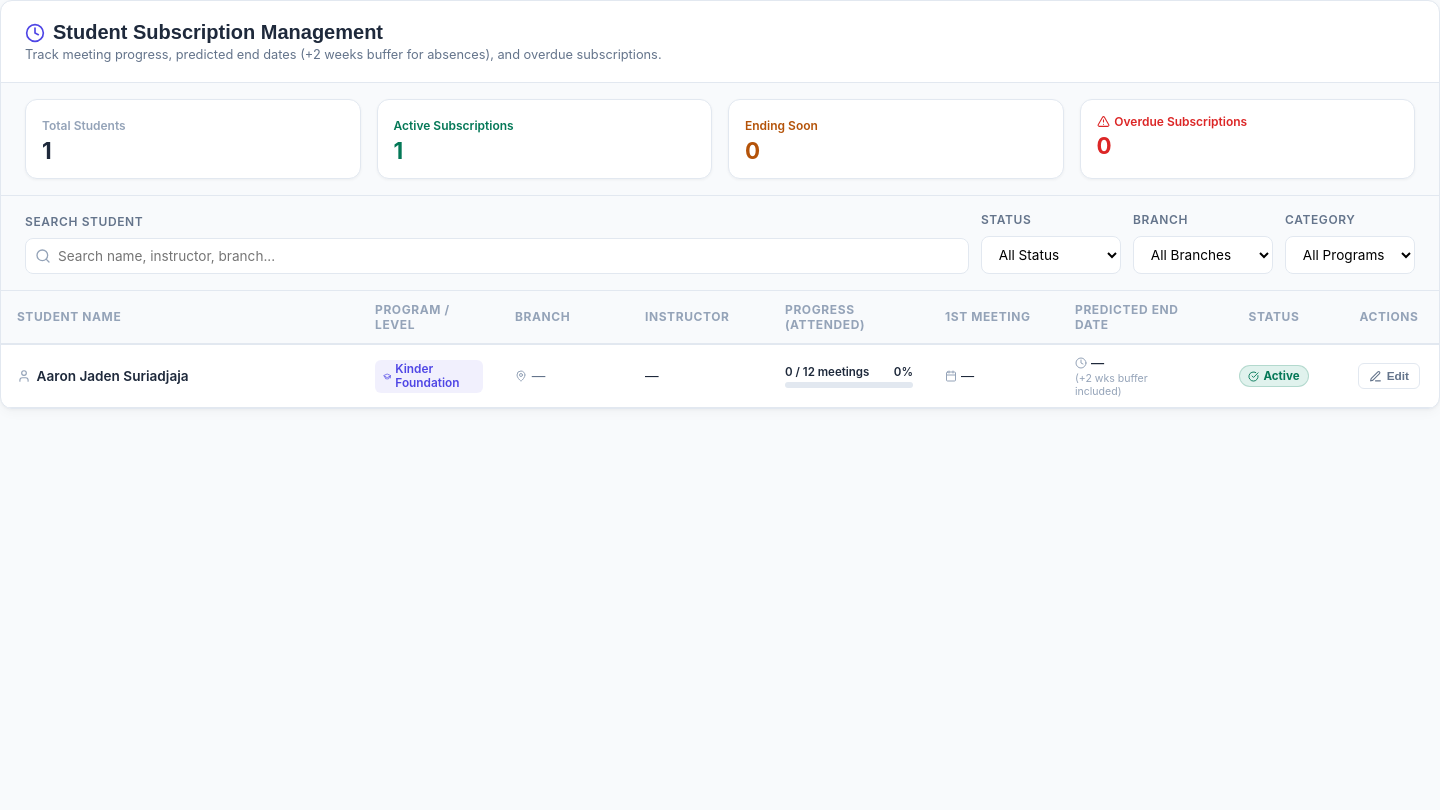
NewStudentSubscriptionsPage — Academic Term Coverage › stages top-up and calculates continuation terms beyond current package
Check: the text "Aaron Jaden Suriadjaja" is shown, box [17,368,189,384]
Click the button titled "Edit Subscription Start Date & Package" at {"x": 1389, "y": 376}, box [1358,363,1420,389]
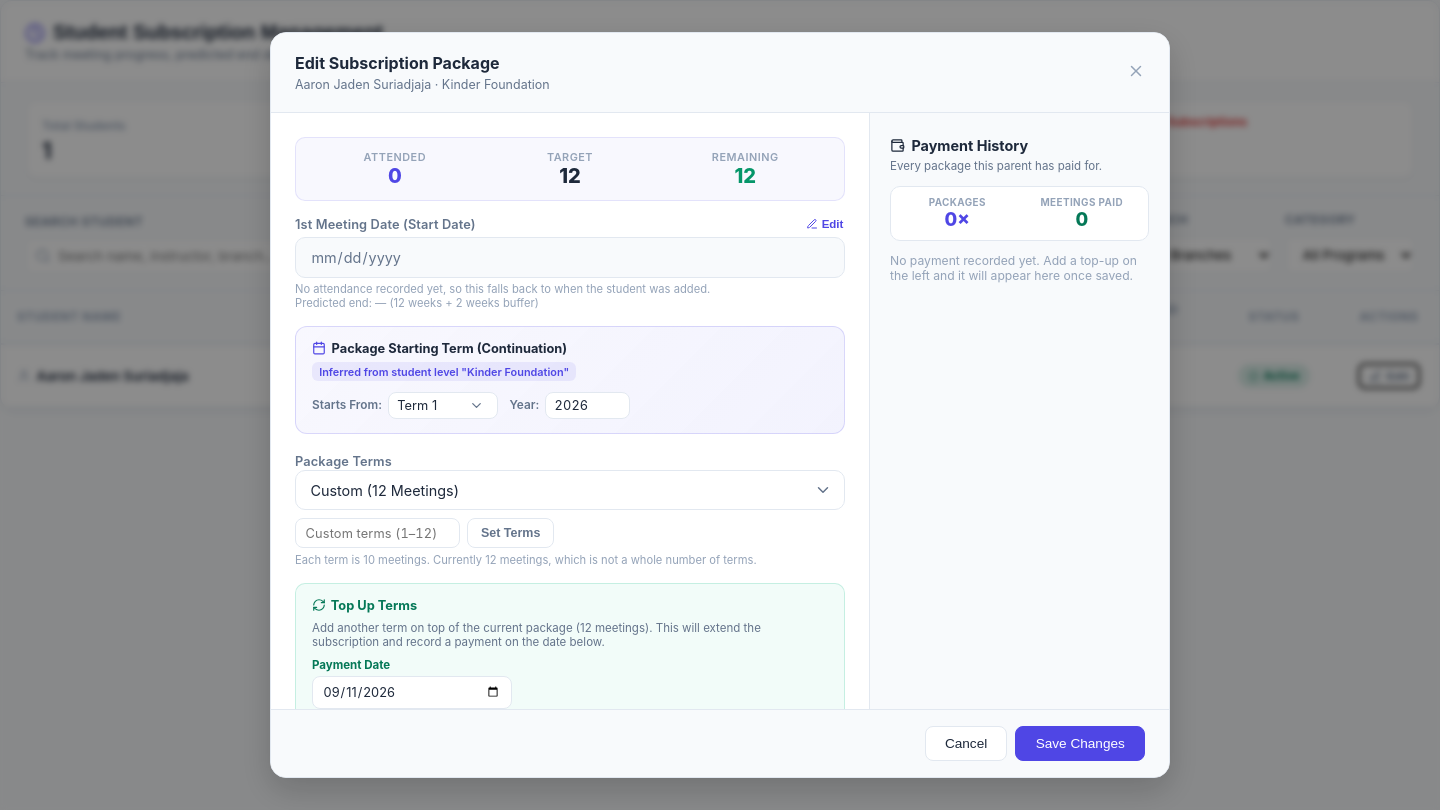
Check: the heading "Edit Subscription Package" is shown, box [295,53,500,73]
# Set starting term to 3
Select "Term 3" in the dropdown labelled "Starts From:" at {"x": 442, "y": 405}, box [388,392,498,419]
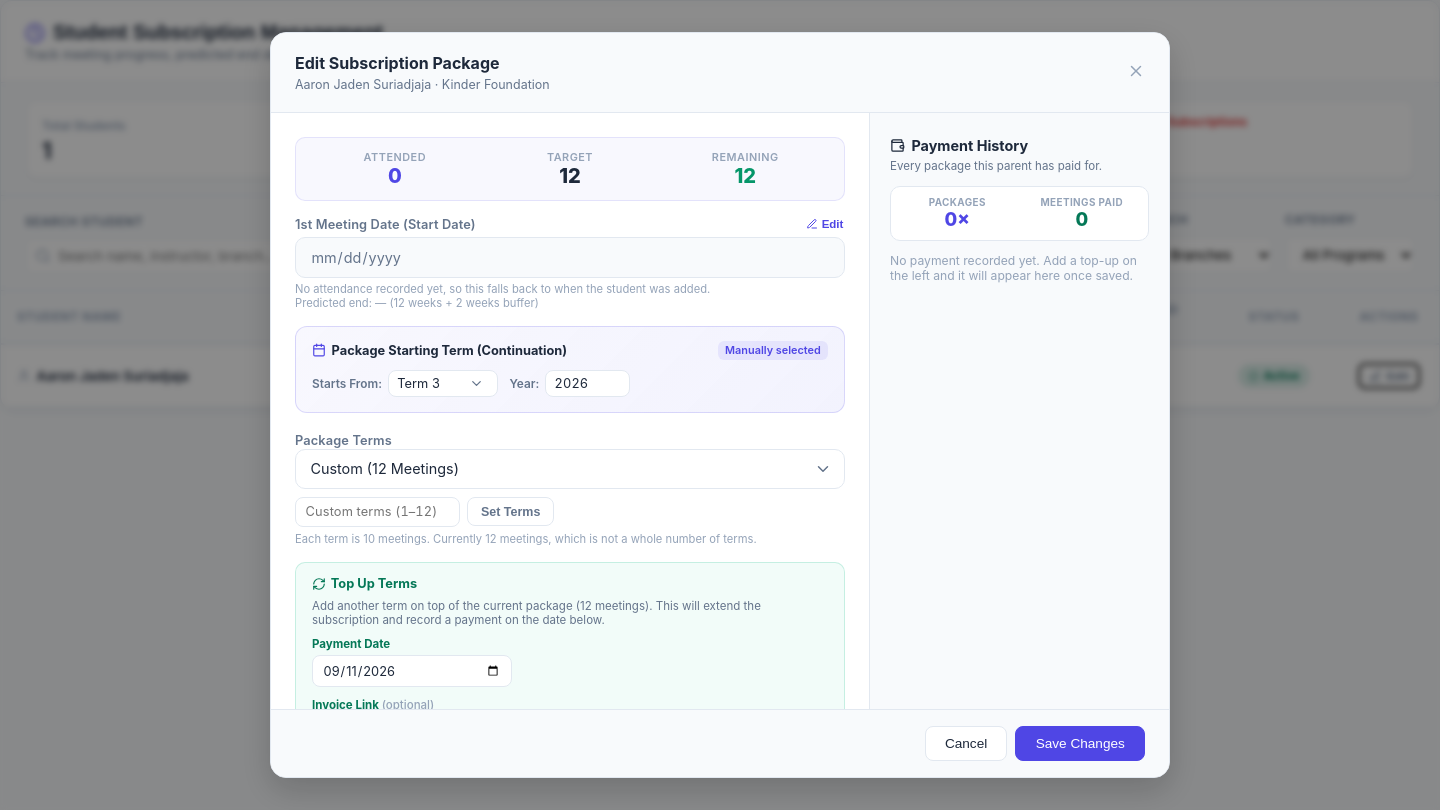
# Set package to 20 meetings (Term 3 & 4)
Select "2 Terms (20 Meetings) — Covers Term 3 & Term 4 (2026)" in the dropdown labelled "Package Terms" at {"x": 570, "y": 469}, box [295,449,845,488]
(page scrolled)
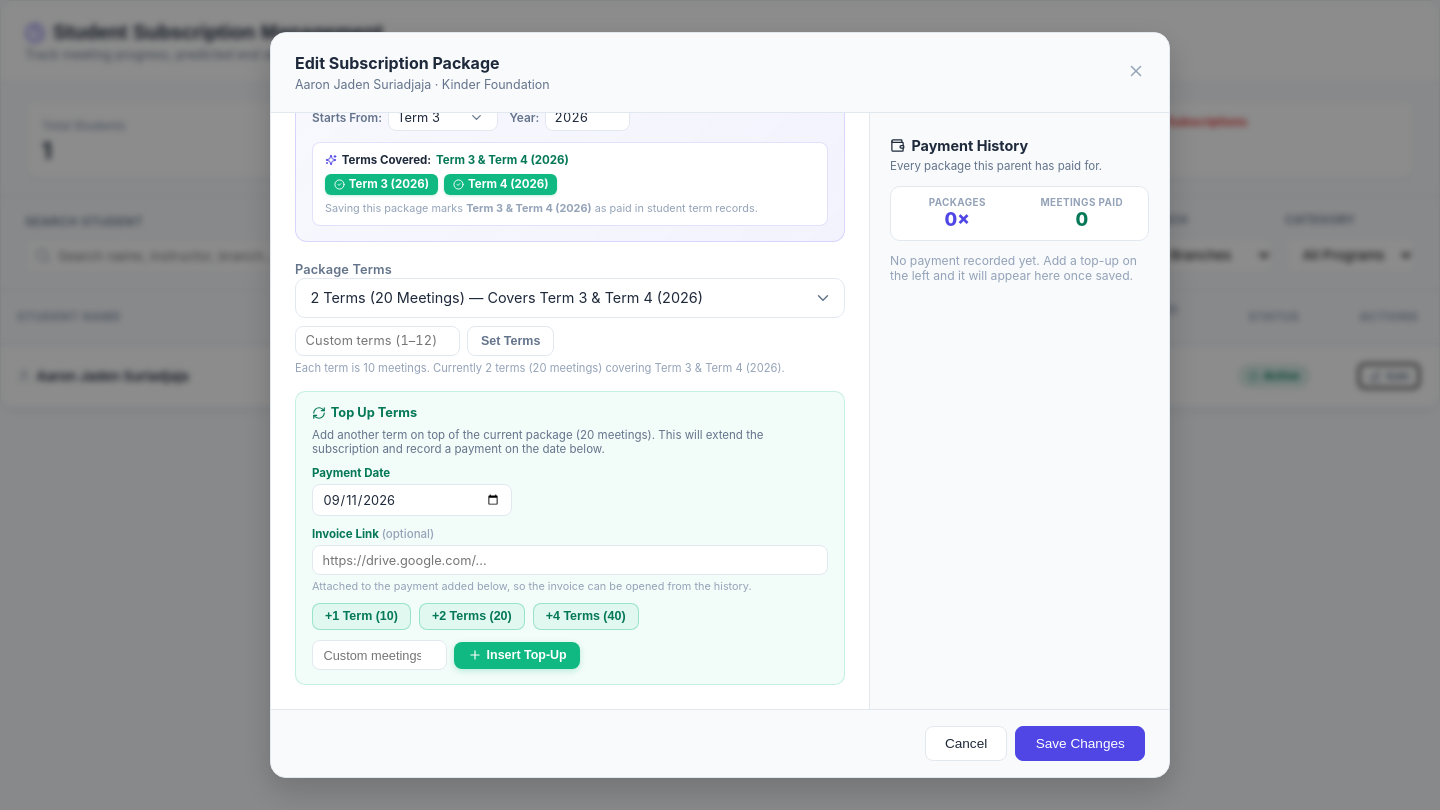
# Click +1 Term top-up button
Click the button "+1 Term (10)" at {"x": 361, "y": 616}, box [312,603,411,630]
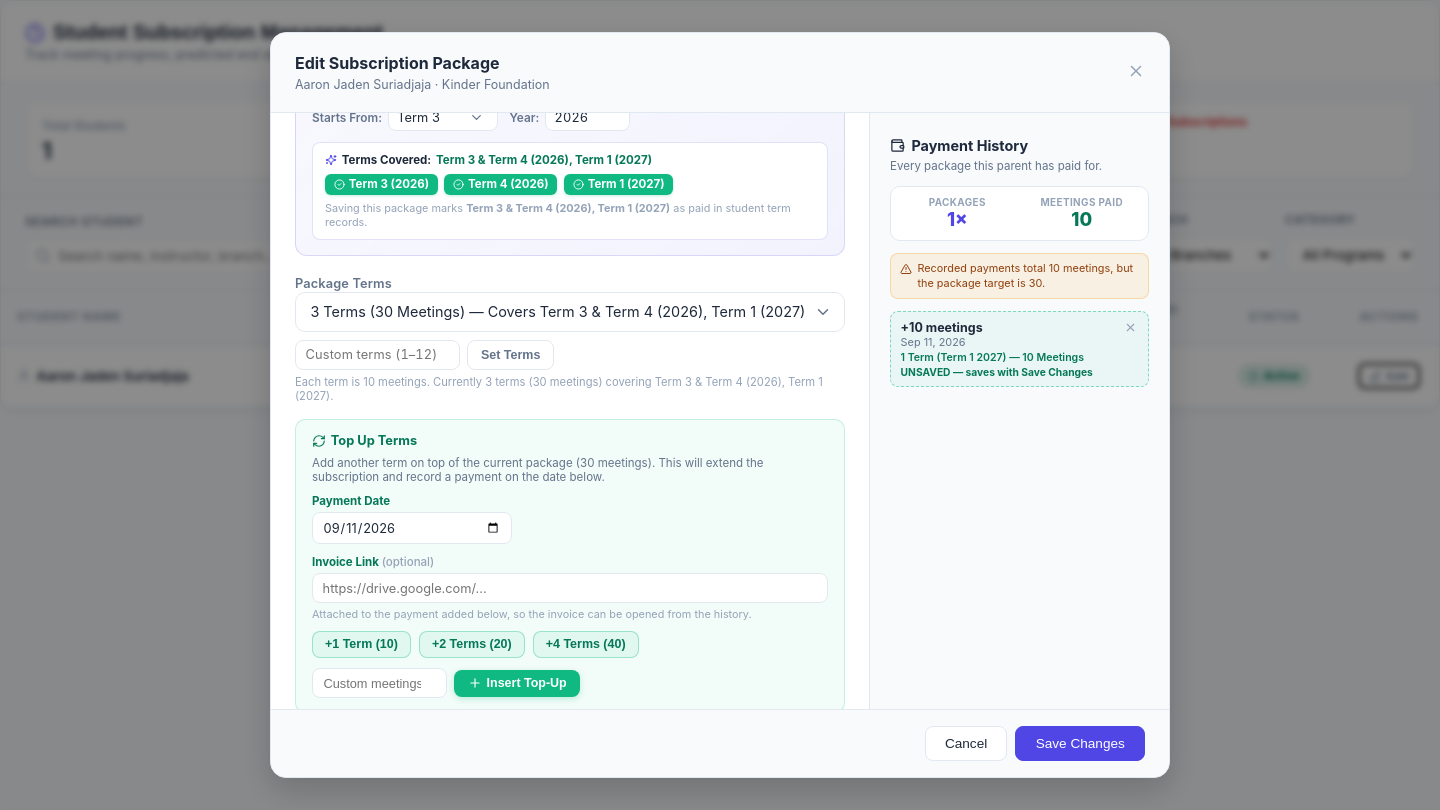
Check: the text "UNSAVED — saves with Save Changes" is shown, box [901,366,1116,378]
Check: the text "1 Term (Term 1 2027) — 10 Meetings" is shown, box [901,351,1116,364]
